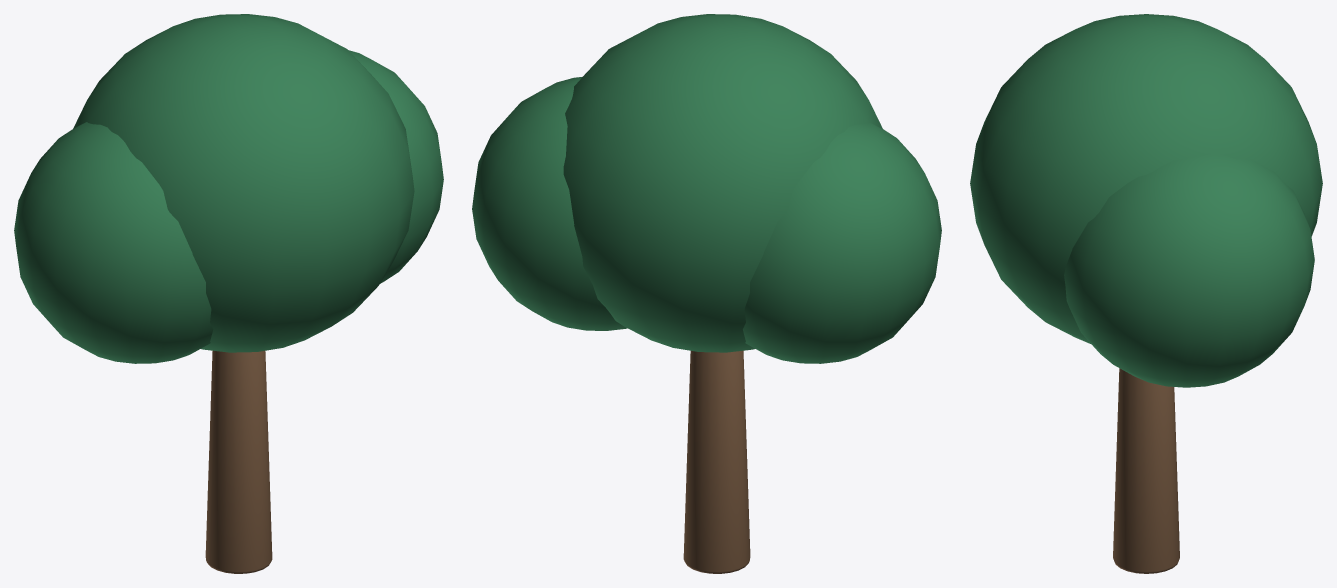
File: tree.glb
3 renders of one model, left to right at view 1: azimuth 30°, elevation 25°; view 2: azimuth 150°, elevation 25°; view 3: azimuth 270°, elevation 25°, orthographic.
Parts seen in each view (by area): view 1: Geometry_Leaf, Geometry_Wood; view 2: Geometry_Leaf, Geometry_Wood; view 3: Geometry_Leaf, Geometry_Wood.
Part boxes in pixels (x1,y1,x2,y2): Geometry_Leaf: [14, 14, 443, 363]; Geometry_Wood: [205, 350, 272, 573]; Geometry_Leaf: [472, 14, 941, 363]; Geometry_Wood: [683, 350, 750, 573]; Geometry_Leaf: [970, 14, 1322, 387]; Geometry_Wood: [1113, 368, 1179, 573].
Size of the model in its own units: 3 by 3.65 by 2.2.
